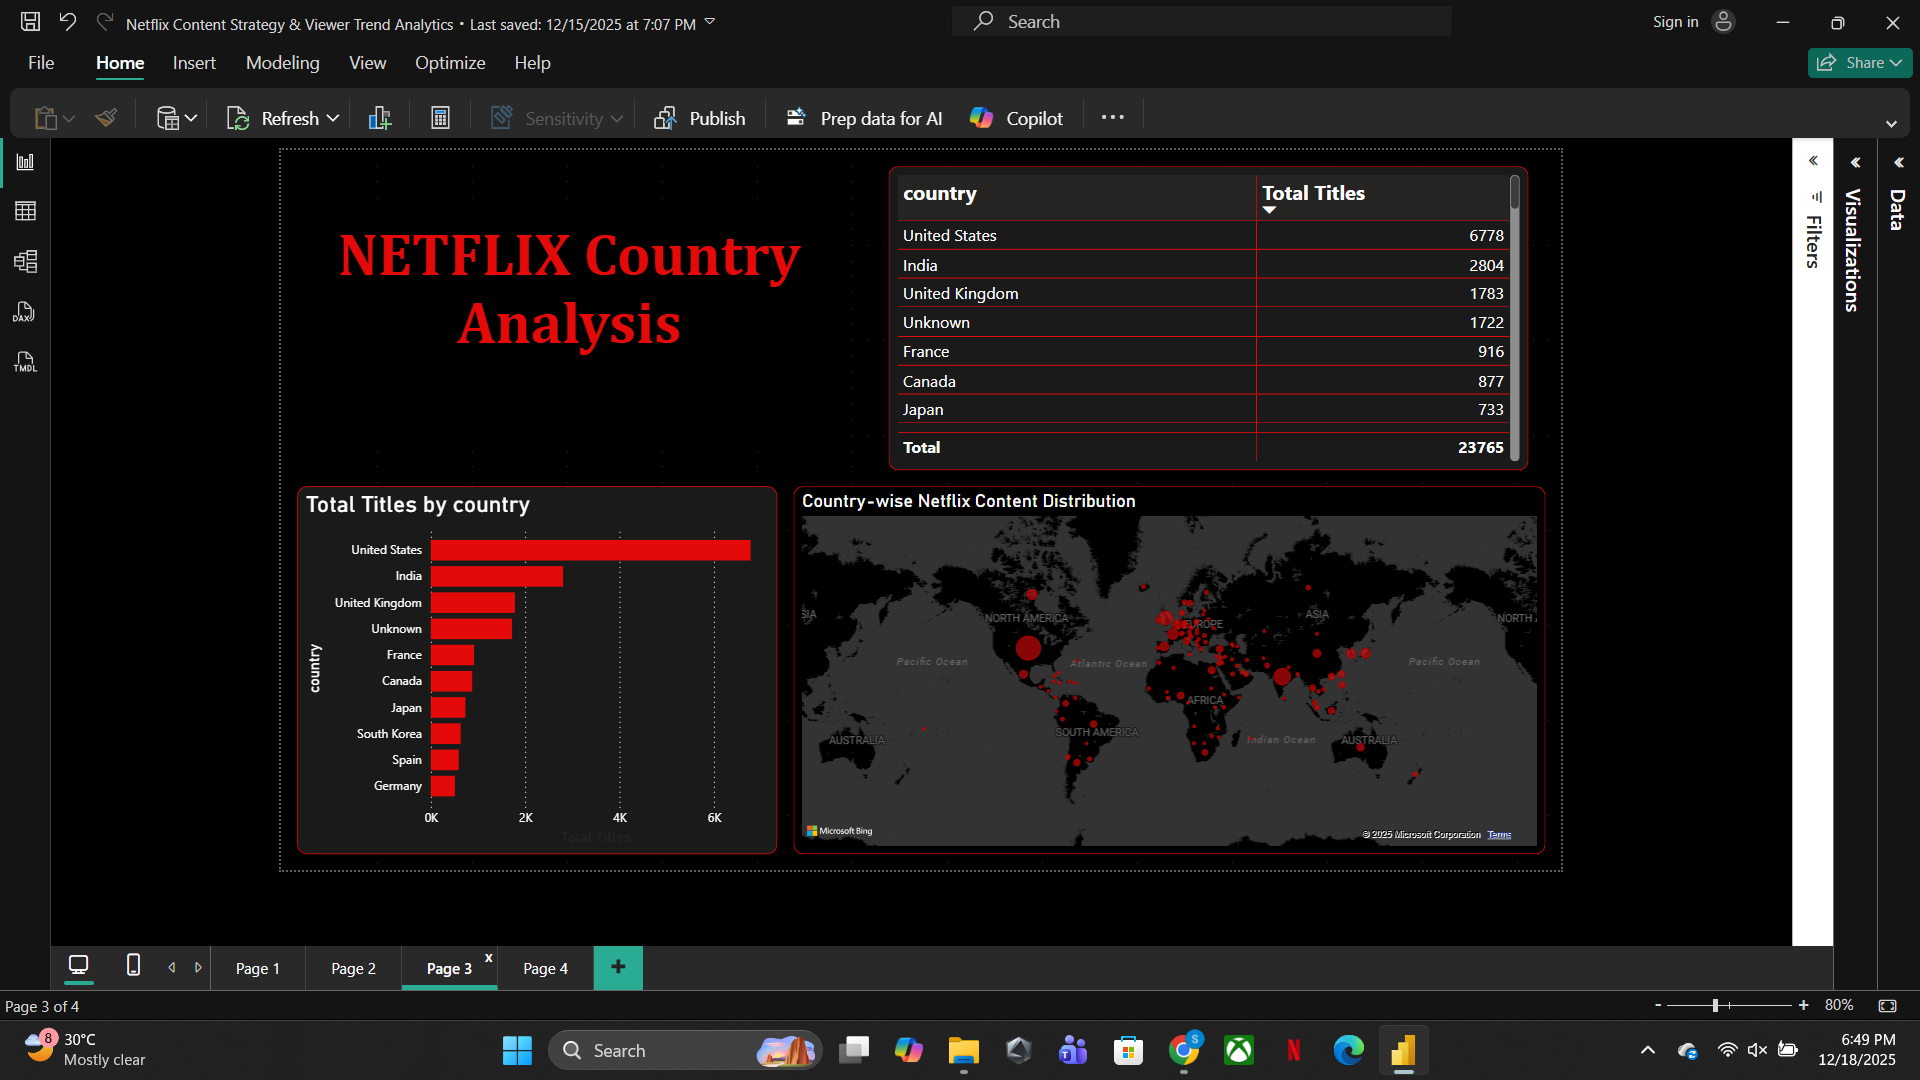

The dashboard page shown, as its layout file describes it:
{"tool":"powerbi","page":{"name":"Page 3","canvas":[1280,720],"ordinal":2},"visuals":[{"type":"map","title":"Country-wise Netflix Content Distribution","fields":{"Category":["cleaned_netflix_data.country"],"Size":["cleaned_netflix_data.Total Titles"]},"box":[512,336,752,368],"z":0},{"type":"clusteredBarChart","fields":{"Category":["cleaned_netflix_data.country"],"Y":["cleaned_netflix_data.Total Titles"]},"box":[16,336,480,368],"z":1000},{"type":"tableEx","fields":{"Values":["cleaned_netflix_data.country","cleaned_netflix_data.Total Titles"]},"box":[608,16,640,304],"z":2000},{"type":"textbox","box":[16,64,544,224],"z":3000}]}

Visuals, with their boxes on the page's 1280x720 design canvas (x1, y1, x2, y2). These are canvas units, not pixel positions in the 1920x1080 screenshot, which may show the page scaled, cropped or inside an application window:
"Country-wise Netflix Content Distribution" map: (512, 336, 1264, 704)
clusteredBarChart - cleaned_netflix_data.country x cleaned_netflix_data.Total Titles: (16, 336, 496, 704)
tableEx - cleaned_netflix_data.country x cleaned_netflix_data.Total Titles: (608, 16, 1248, 320)
textbox: (16, 64, 560, 288)
